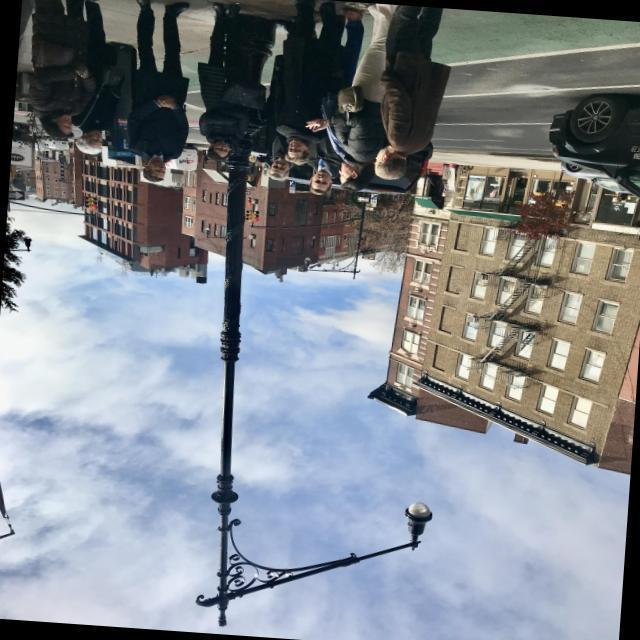off: (127, 501, 472, 612)
